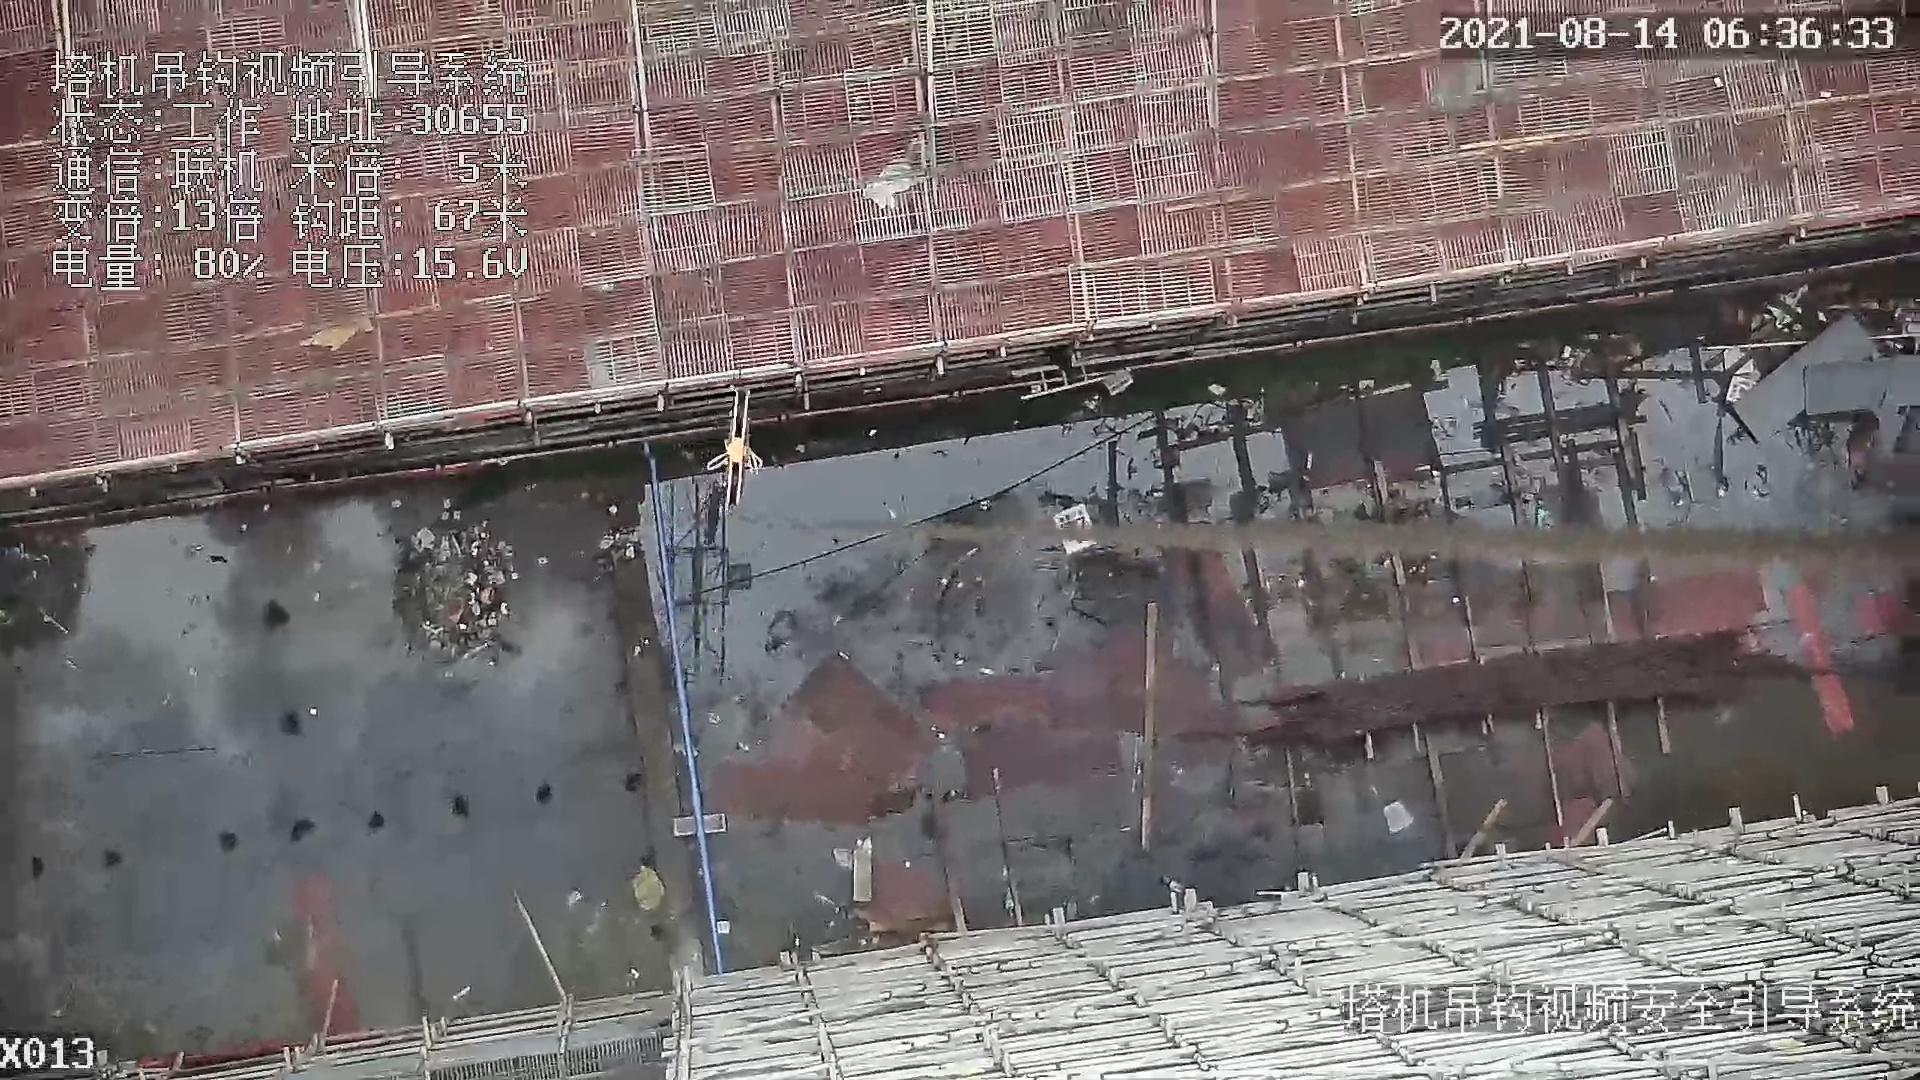hook: (709, 382, 754, 520)
